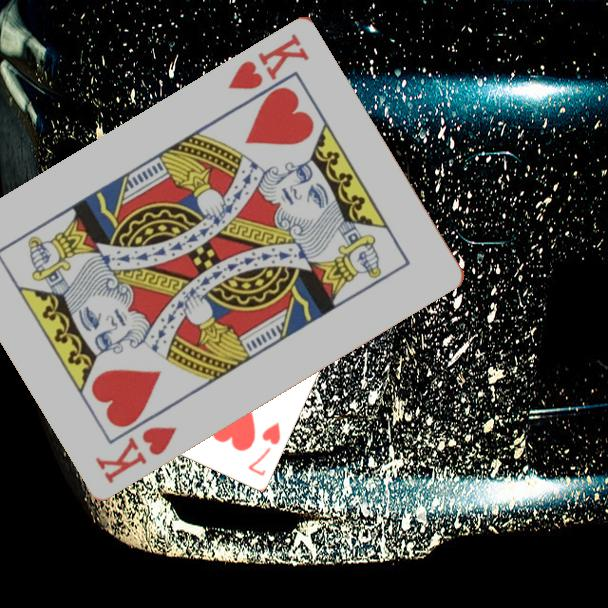h07: (245, 419, 284, 480)
h13: (91, 422, 180, 487), (224, 29, 312, 93)
